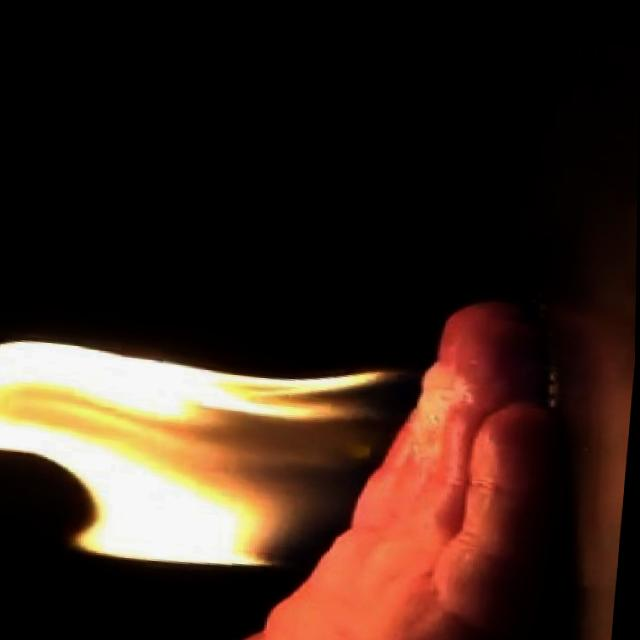helmet: (0, 314, 464, 592)
